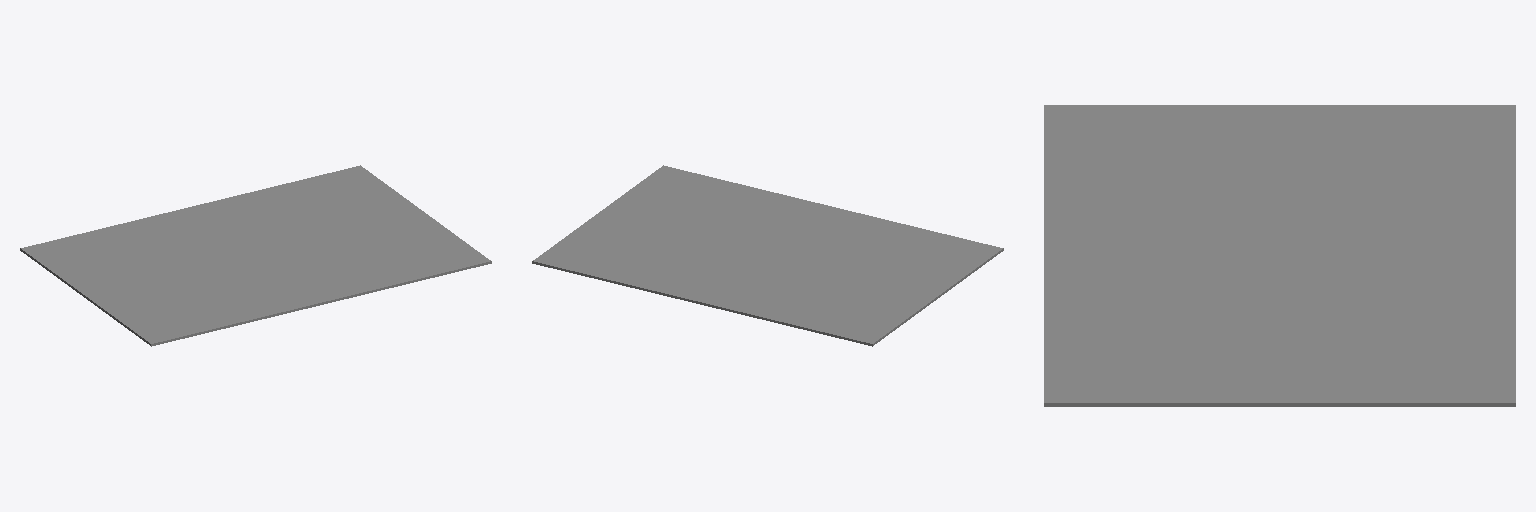
robot.urdf — ground:
<?xml version="1.0"?>
<!--
  Plain flat box, matching script/twin/assets/ground_bimanual.urdf's
  pattern — generic primitive, no vendored content. Sized to cover both
  UR10 arms' workspaces (arms 1.5m apart along X, centered at X=0.75) plus
  the table/leg layout, with margin past each arm's ~1.3m reach.
-->
<robot name="ground">
  <link name="ground_base">
    <visual>
      <geometry>
        <box size="3.0 2.0 0.02"/>
      </geometry>
      <origin xyz="0.75 0 -0.01"/>
      <material name="Gray">
        <color rgba="0.6 0.6 0.6 0.6"/>
      </material>
    </visual>
    <collision>
      <geometry>
        <box size="3.0 2.0 0.02"/>
      </geometry>
      <origin xyz="0.75 0 -0.02"/>
    </collision>
  </link>
</robot>

--- Render facts (derived) ---
Views: 3 orthographic renders of the robot side by side, from view 1: azimuth 30°, elevation 25°; view 2: azimuth 150°, elevation 25°; view 3: azimuth 270°, elevation 25°.
Model ground with 1 links and 0 joints (none), rooted at ground_base, posed every joint at zero.
Visible links, largest first — view 1: ground_base; view 2: ground_base; view 3: ground_base.
Boxes of the visible links, <box> form: ground_base: <box>20,165,491,346</box>; ground_base: <box>532,165,1003,346</box>; ground_base: <box>1044,105,1515,406</box>.
Bounding box of the posed robot: 3 × 2 × 0.02 m (x, y, z).
Geometry: primitives only (box / cylinder / sphere), no mesh files.
